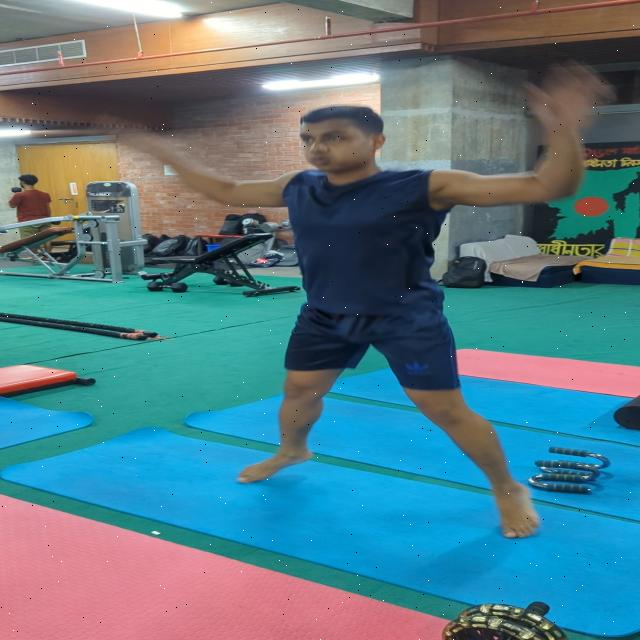Normal_JumpingJacks: (89, 93, 622, 540)
